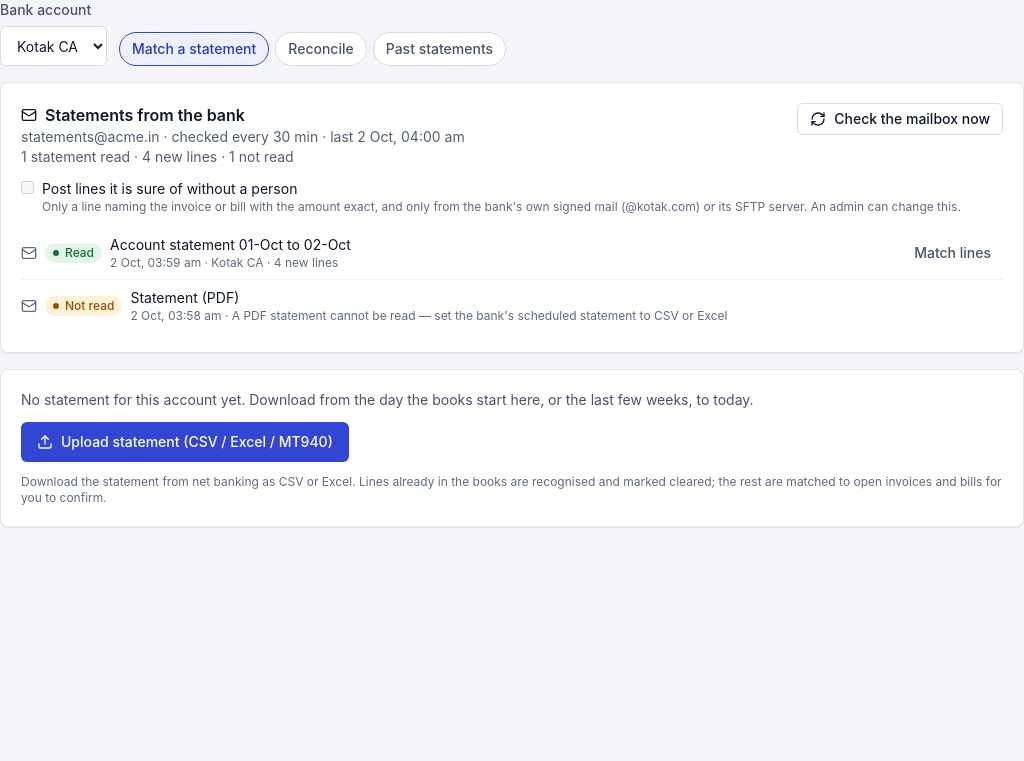
Test: statements by email › opens a mailed statement with its suggestions and posts against that statement
What coordinates should you click on to do the following:
click the button "Match lines"
I would click on:
 (953, 253)
Its box is [902,237,1003,269].
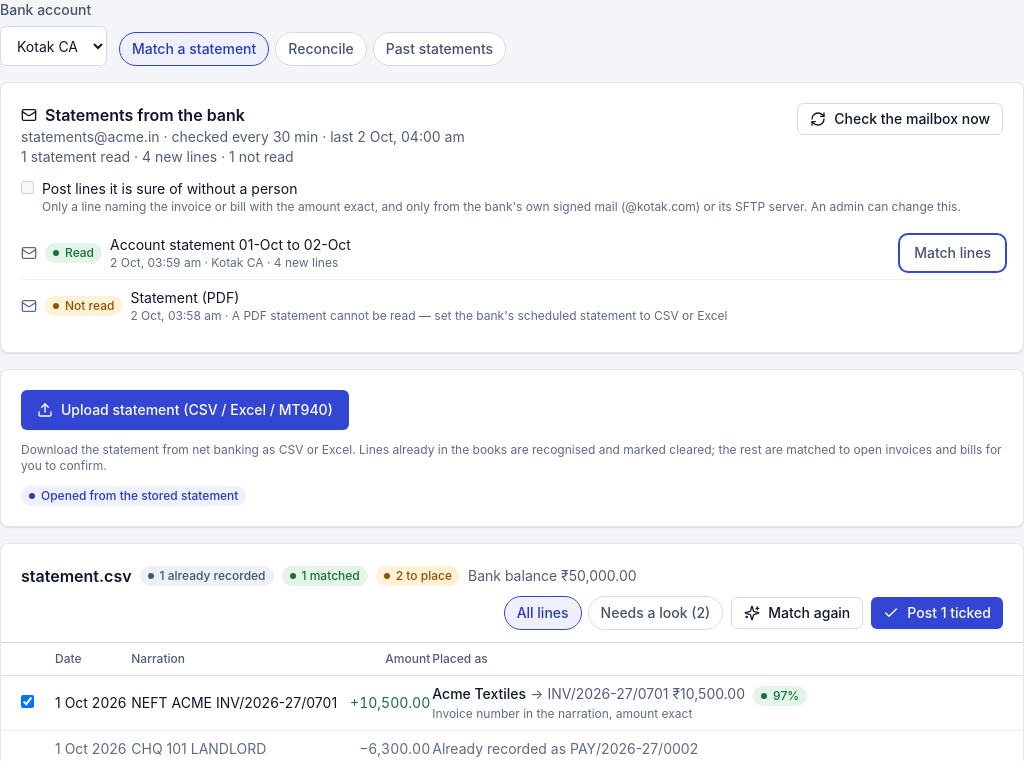
Expected: the text "Acme Textiles" is shown, [432,685,526,702]
Expected: the text "Already recorded as PAY/2026-27/0002" is shown, [432,740,698,757]
What coordinates should you click on to do the following:
click the button "Post 1 ticked"
I would click on:
 (937, 613)
Its box is [871,597,1003,629].
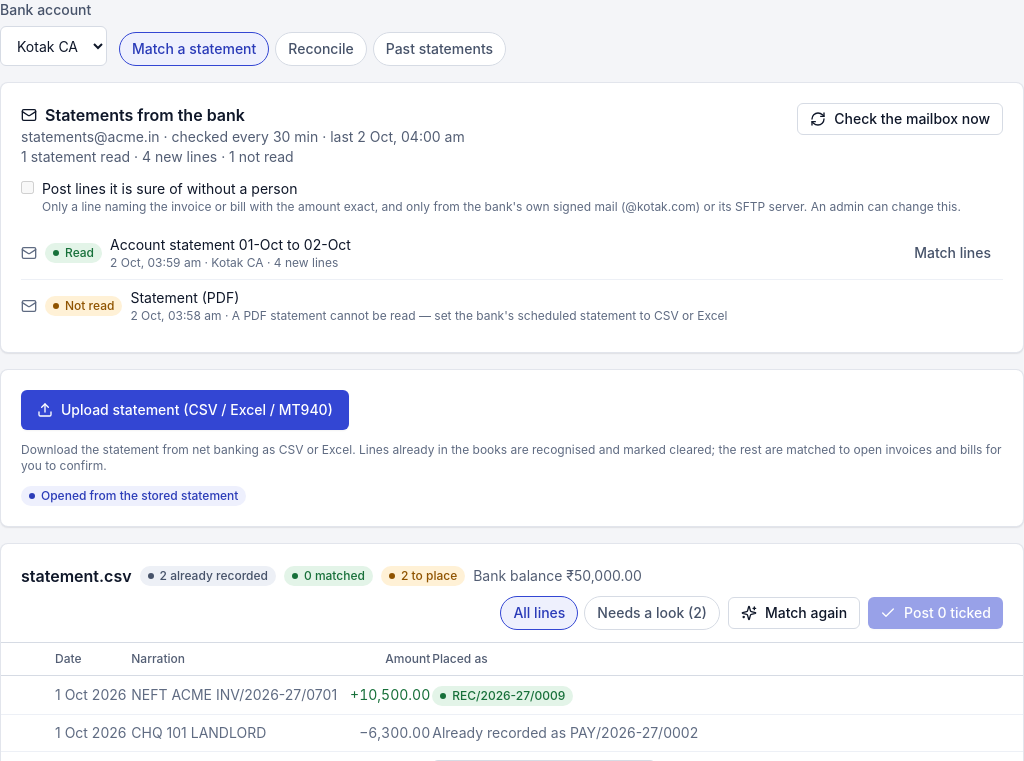
Expected: the text "REC/2026-27/0009" is shown, [452,688,565,704]
